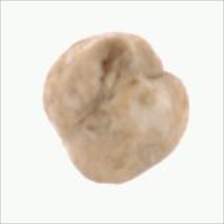L2: (41, 32, 190, 184)
